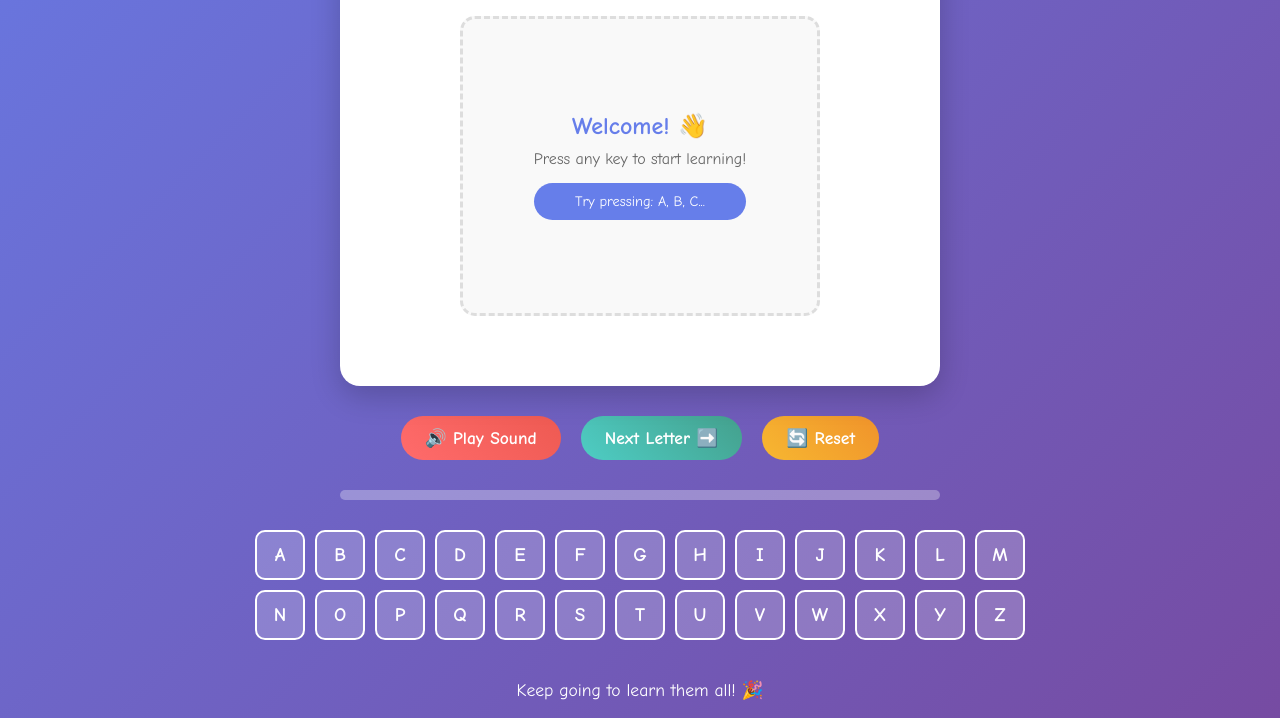
Test: Alphabet Learning App › Alphabet Grid Interaction › responds to alphabet grid button clicks
This screenshot has width=1280, height=718.
(page scrolled)
Click the button named "Letter H".
click(700, 555)  # box [675, 530, 725, 580]
Wait 5000 ms
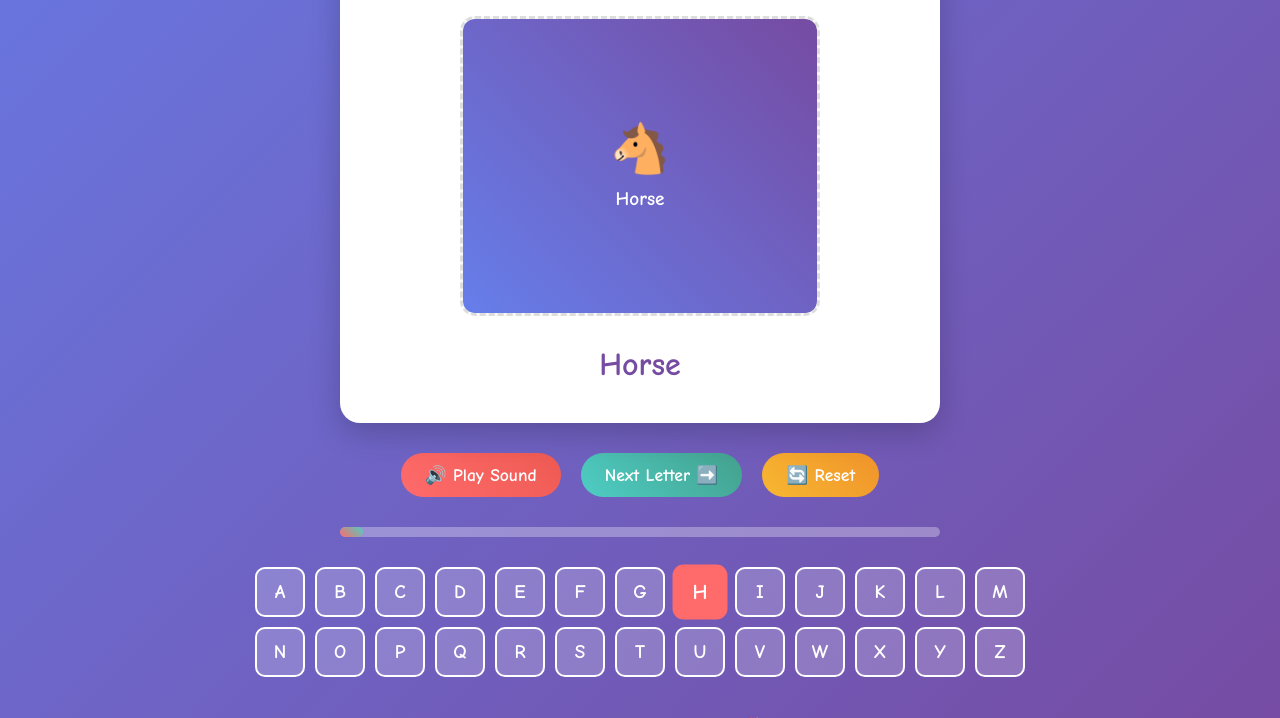
Result: the text "🐴" is shown at [610, 122, 670, 178]
